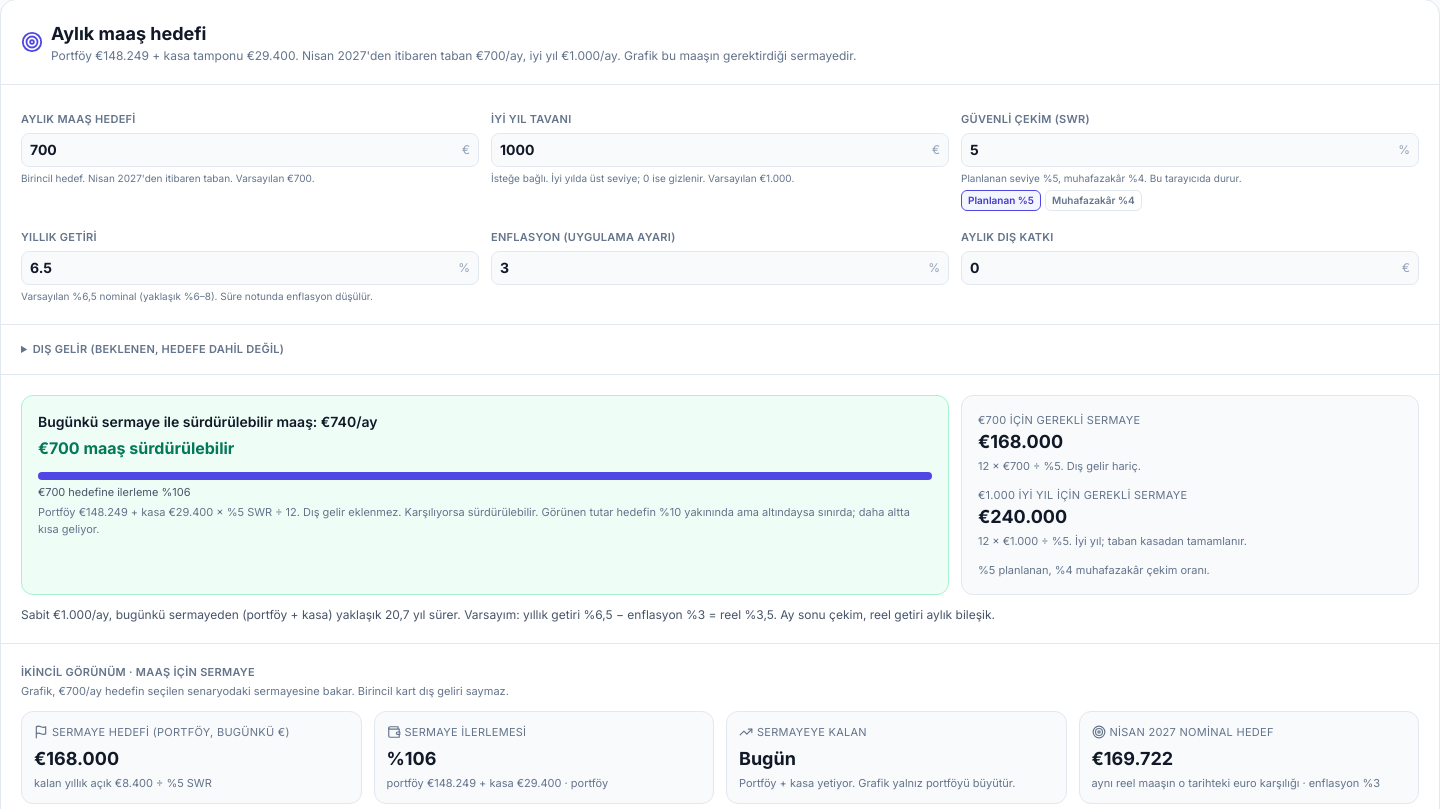
Hedef aylık maaş › çiftlik aktif olunca grafik düşer; maaş kartı €168 bin olarak kalır
Expected: the heading "Aylık maaş hedefi" is shown, 51,23 -> 206,44
Click the heading "Dış gelir (beklenen, hedefe dahil değil)".
click(158, 349)  # box 33,342 -> 284,356
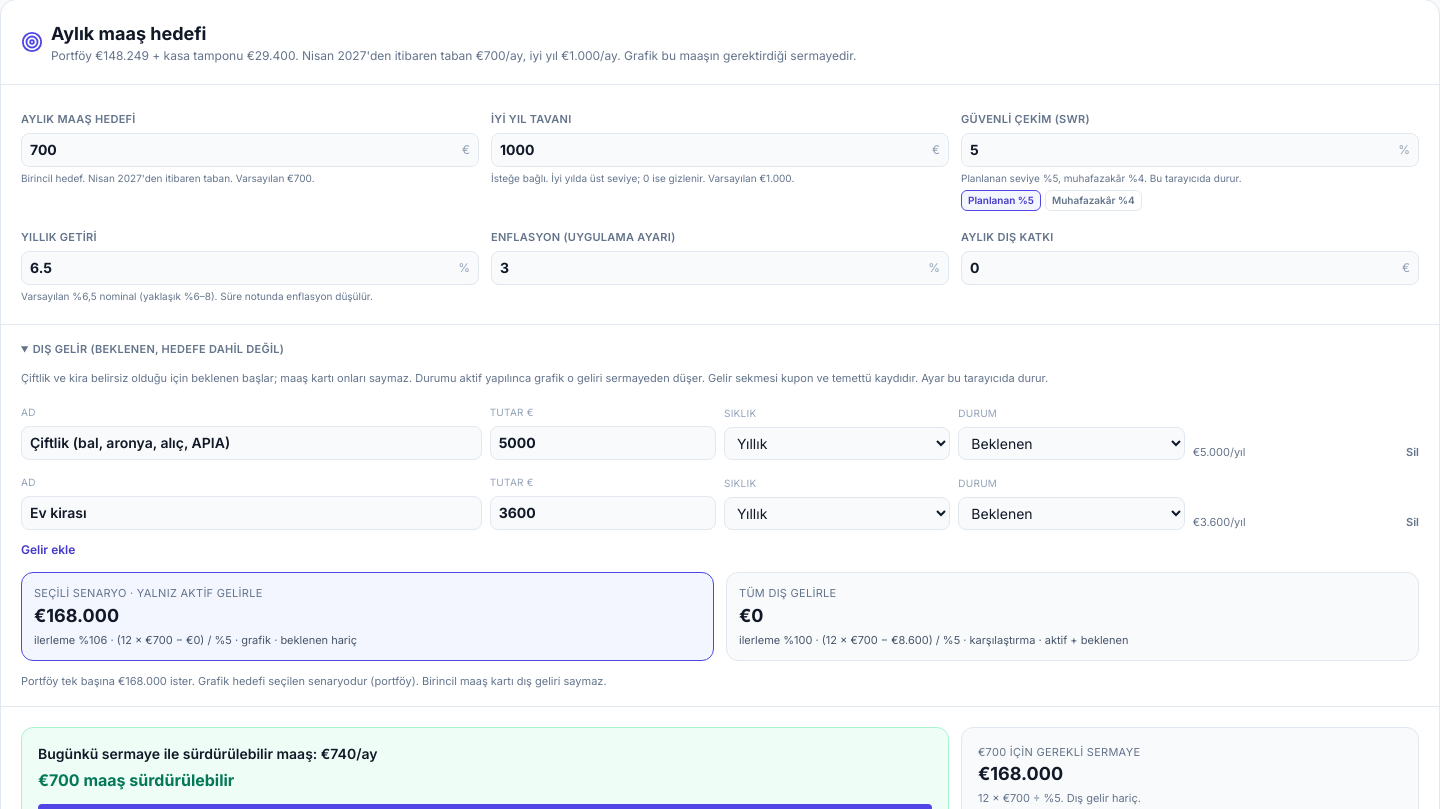
Result: the field showing "Çiftlik (bal, aronya, alıç, APIA)" in the row of "€5.000" is shown at 21,426 -> 482,460
Result: the field showing "Ev kirası" in the row of "€3.600" is shown at 21,496 -> 482,530
Select "Aktif" in the dropdown labelled "Durum" next to "€5.000" at (1071, 444), box 958,427 -> 1185,460
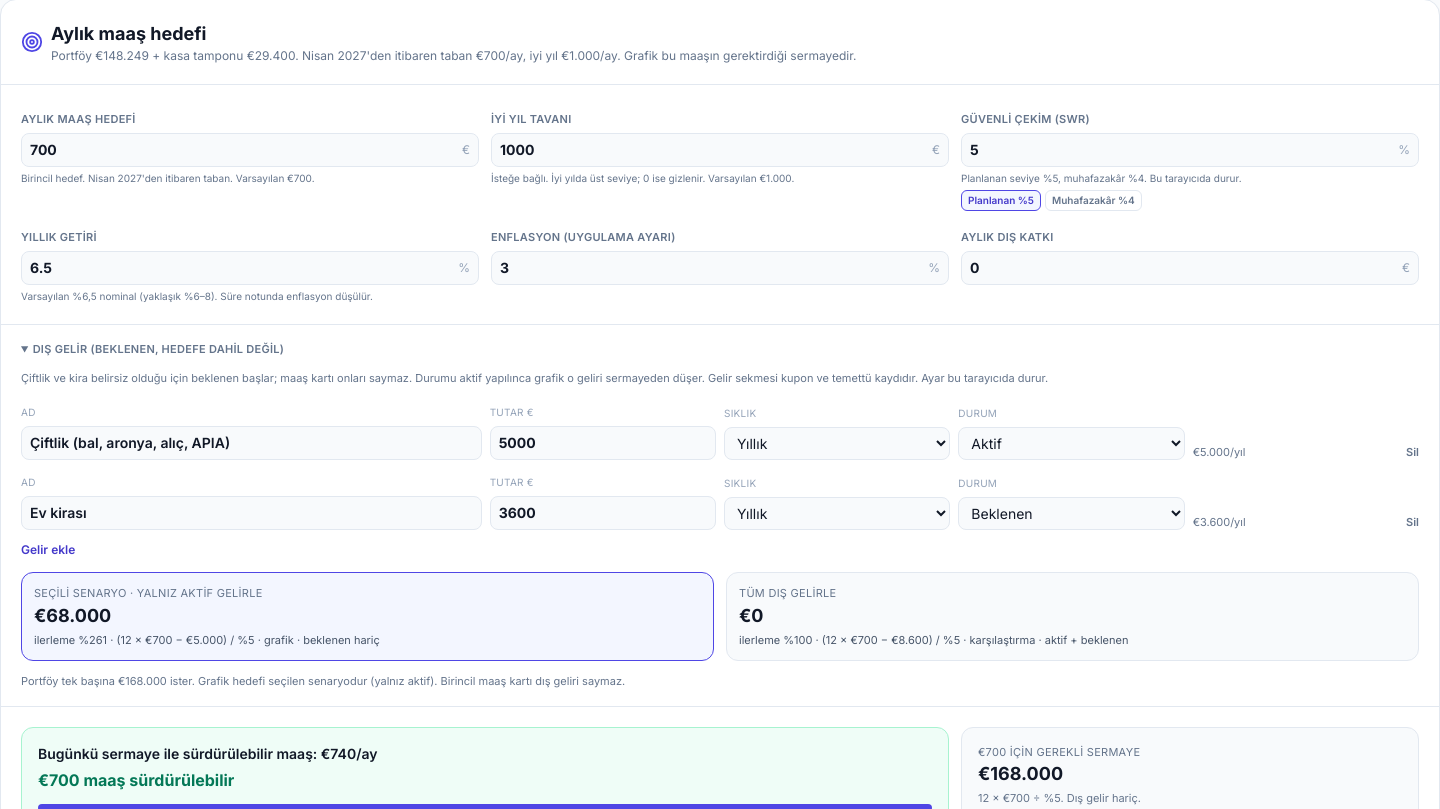
Expected: the text "€700 için gerekli sermaye" is shown, 978,744 -> 1140,758
Result: the text "€68.000" is shown at 34,604 -> 111,626
Click the button "Tüm dış gelirle".
click(788, 593)  # box 726,572 -> 1419,661
(page scrolled)
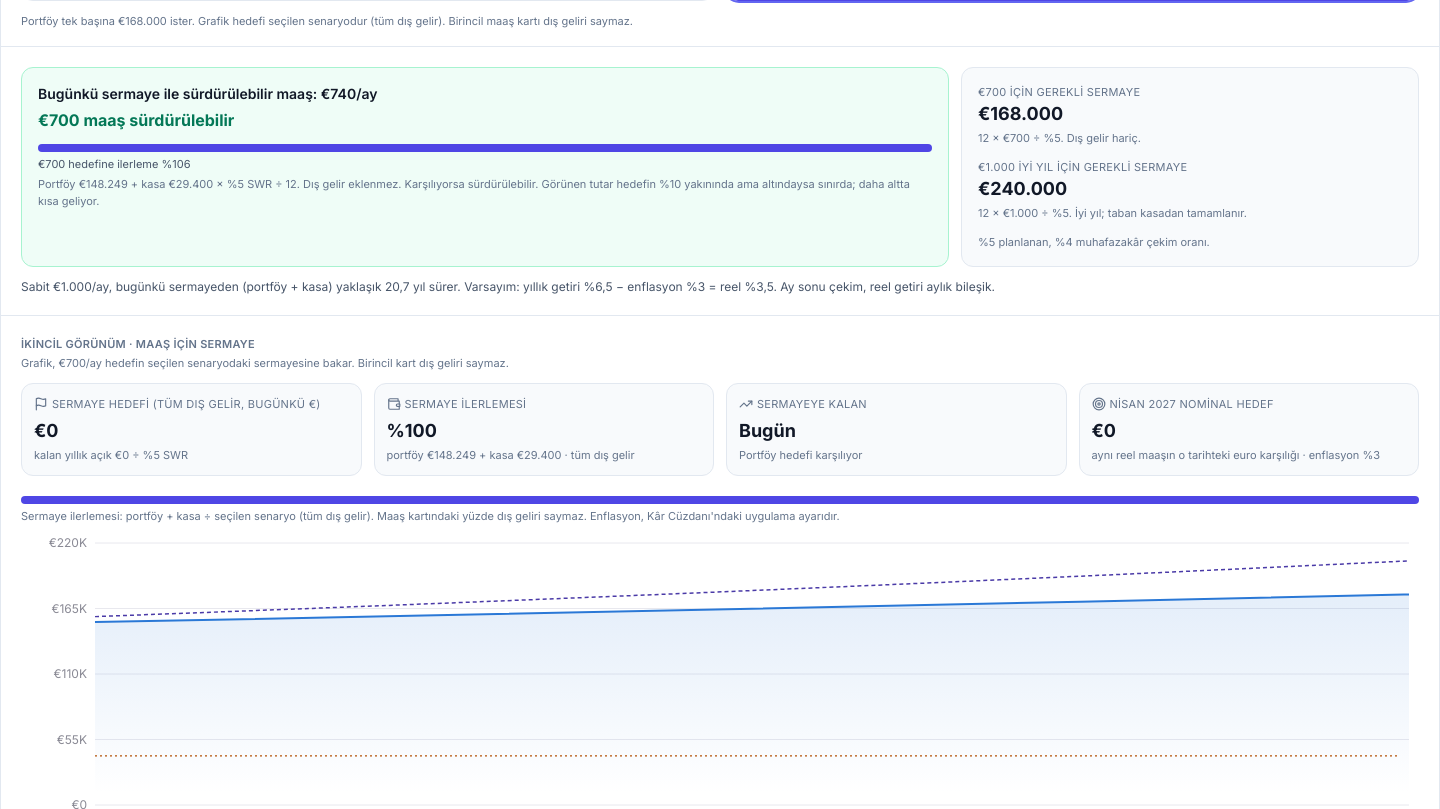
Result: the text "Sermaye hedefi (tüm dış gelir, bugünkü €)" is shown at 34,396 -> 348,412
